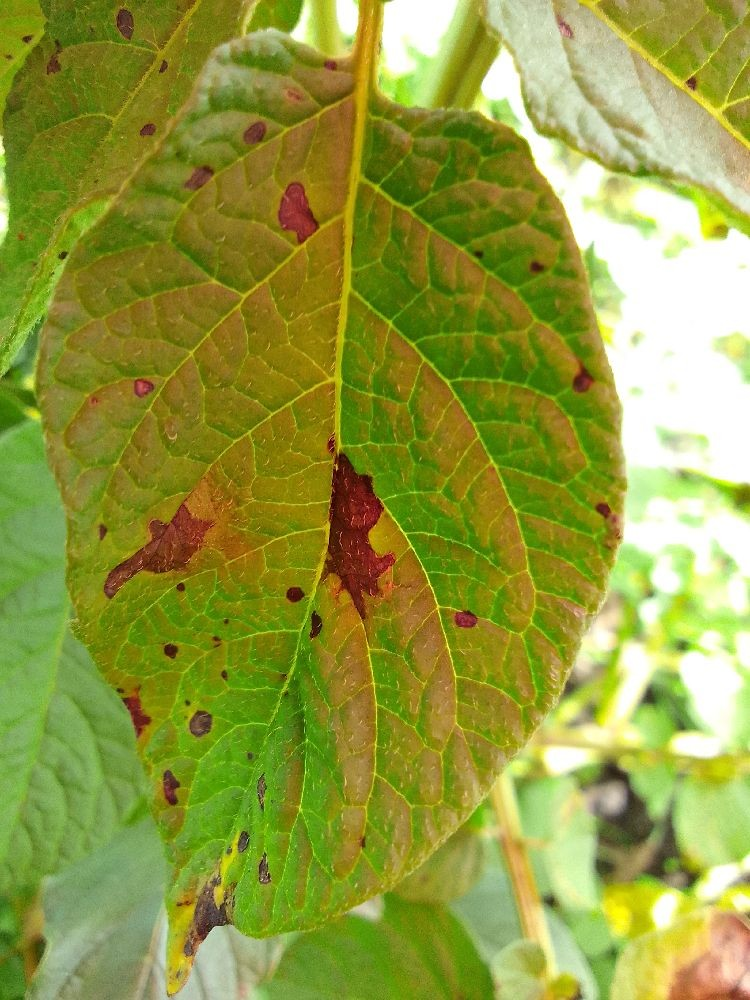late_blight: (533, 0, 749, 211), (564, 742, 714, 903), (151, 859, 250, 1000), (658, 945, 750, 1000)
